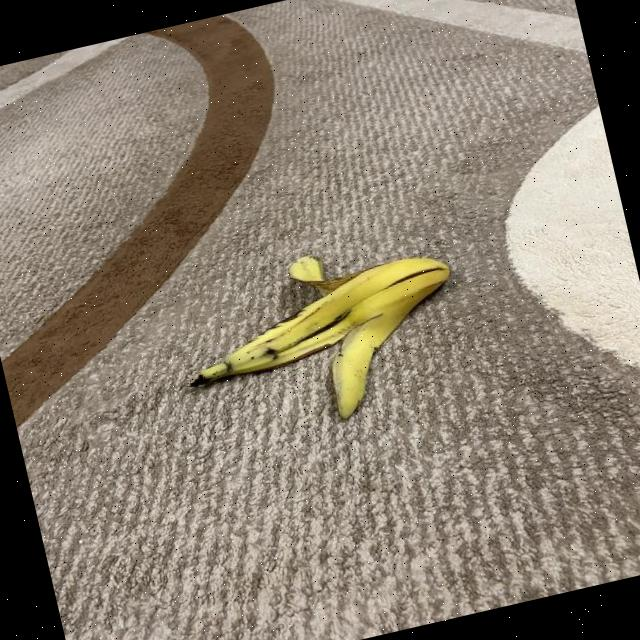banana-peel: (165, 224, 478, 452)
